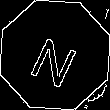N_NE: (26, 24, 84, 86)
